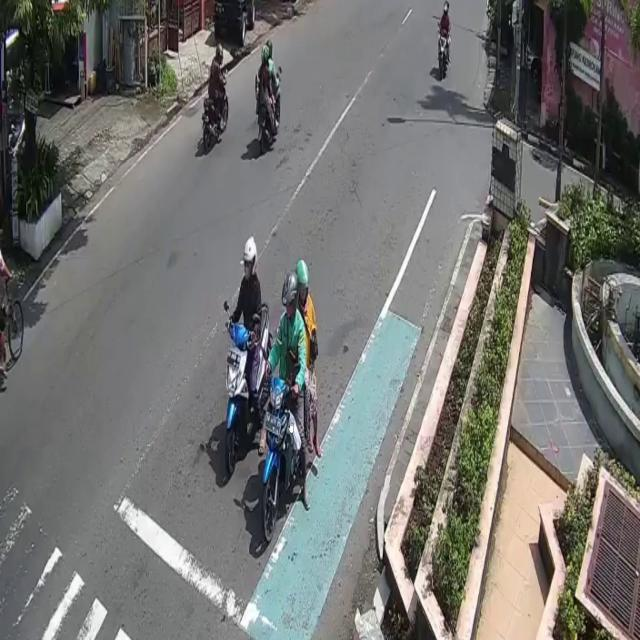motorbike: (260, 371, 312, 548), (223, 302, 273, 477), (201, 70, 233, 149), (257, 70, 282, 149), (438, 27, 451, 84)
